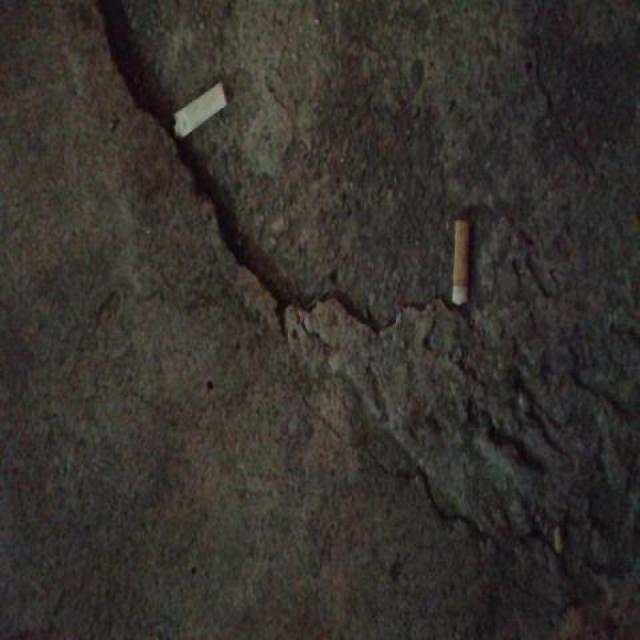non-organic waste: (169, 77, 228, 146), (450, 216, 474, 312)
